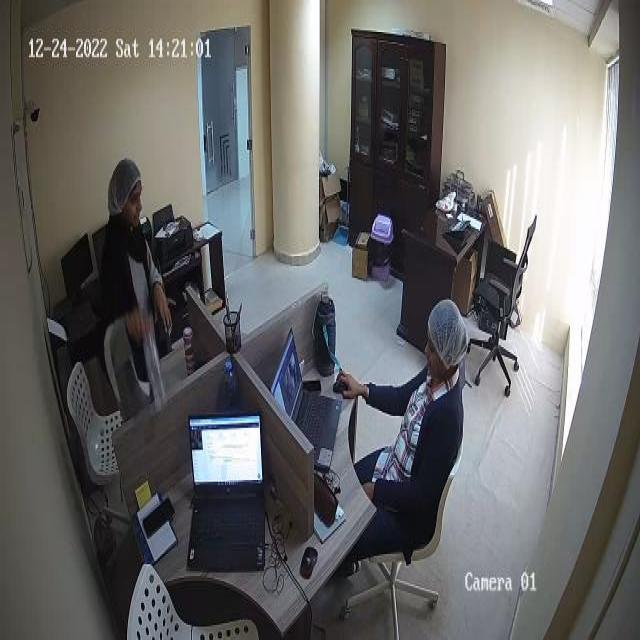hairnet: (429, 301, 466, 360), (108, 156, 140, 198)
